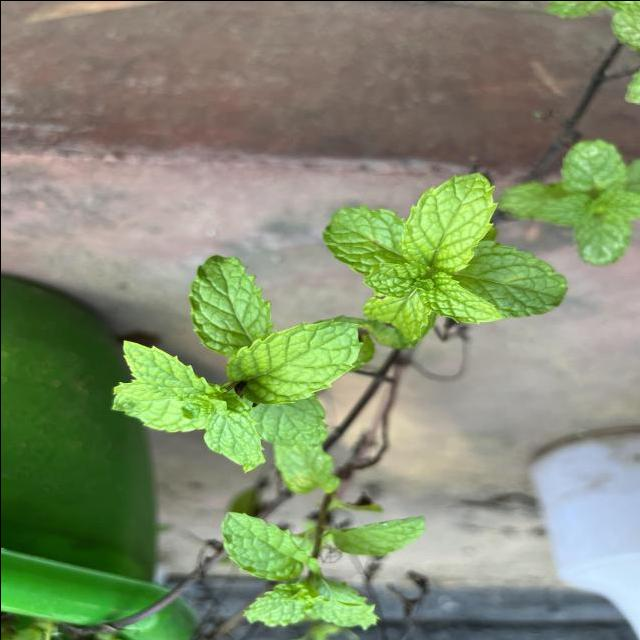Mentha spicata: (224, 316, 364, 406), (399, 170, 498, 274), (188, 253, 275, 356), (120, 338, 215, 402), (414, 270, 502, 324)
